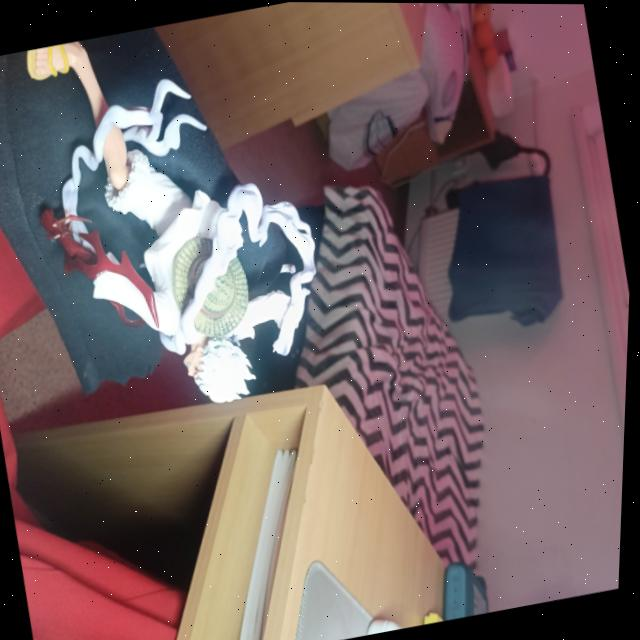luffy: (3, 0, 367, 434)
